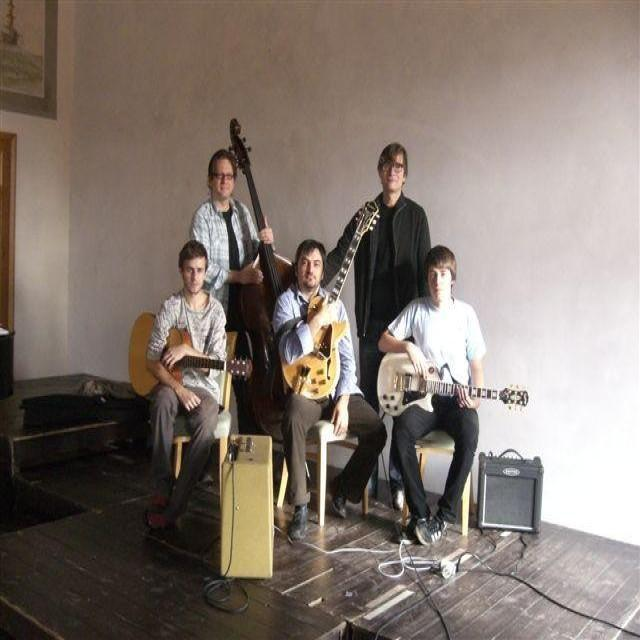guitar: (284, 198, 387, 400), (376, 346, 533, 417), (128, 309, 255, 396)
